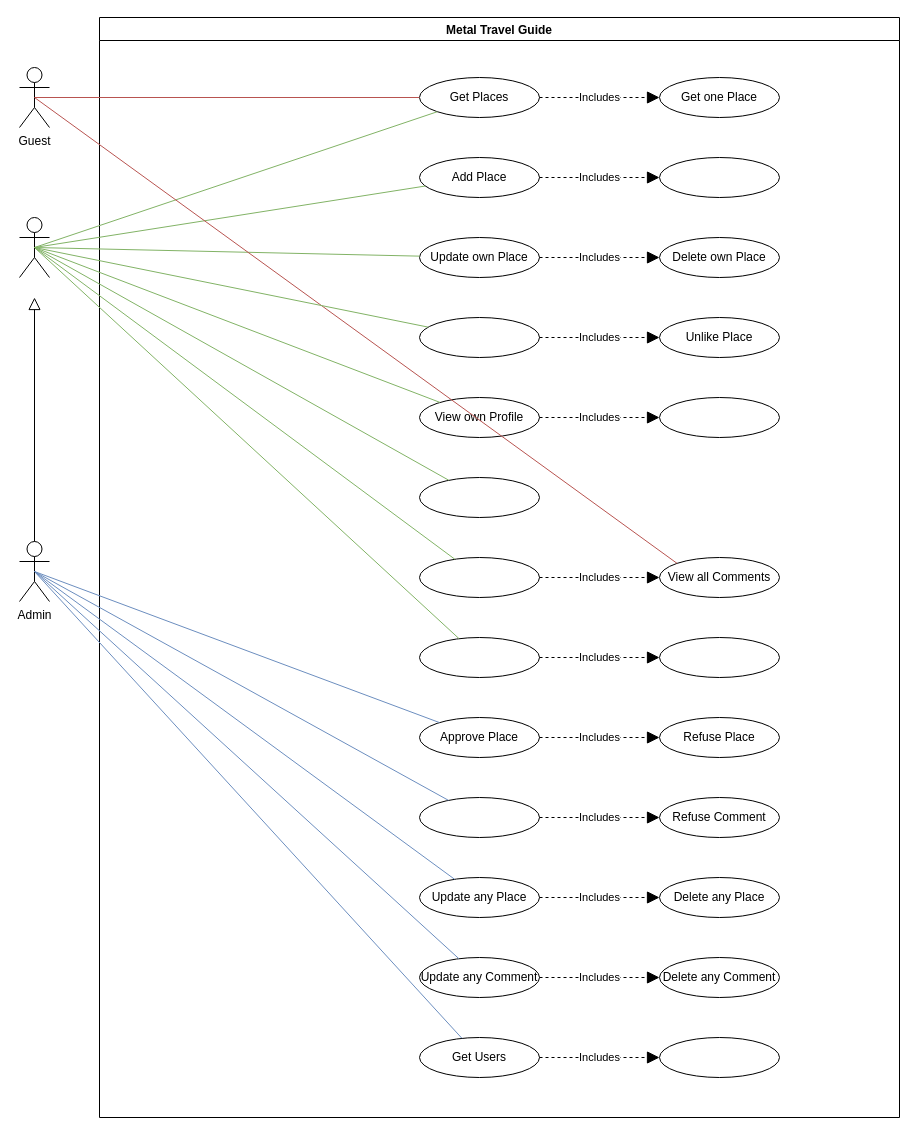
The diagram is 917 pixels wide and 1135 high, and some of its shapes have lost their labels. The shapes that lost their labels are listed below. From the top down, each one's centre as x and y in pixels, then its label:
At pixel 719 177: "Check Existing Place".
At pixel 34 247: "User".
At pixel 479 337: "Like Place".
At pixel 719 417: "View other Profiles".
At pixel 479 497: "Update own Profile".
At pixel 479 577: "Add Comment".
At pixel 479 657: "Update own Comment".
At pixel 719 657: "Delete own Comment".
At pixel 479 817: "Approve Comment".
At pixel 719 1057: "Delete any User".
